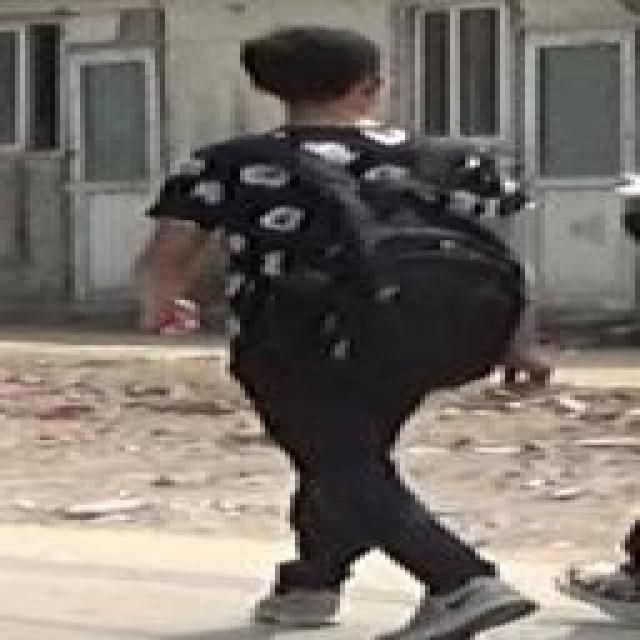adult: (125, 30, 556, 640)
